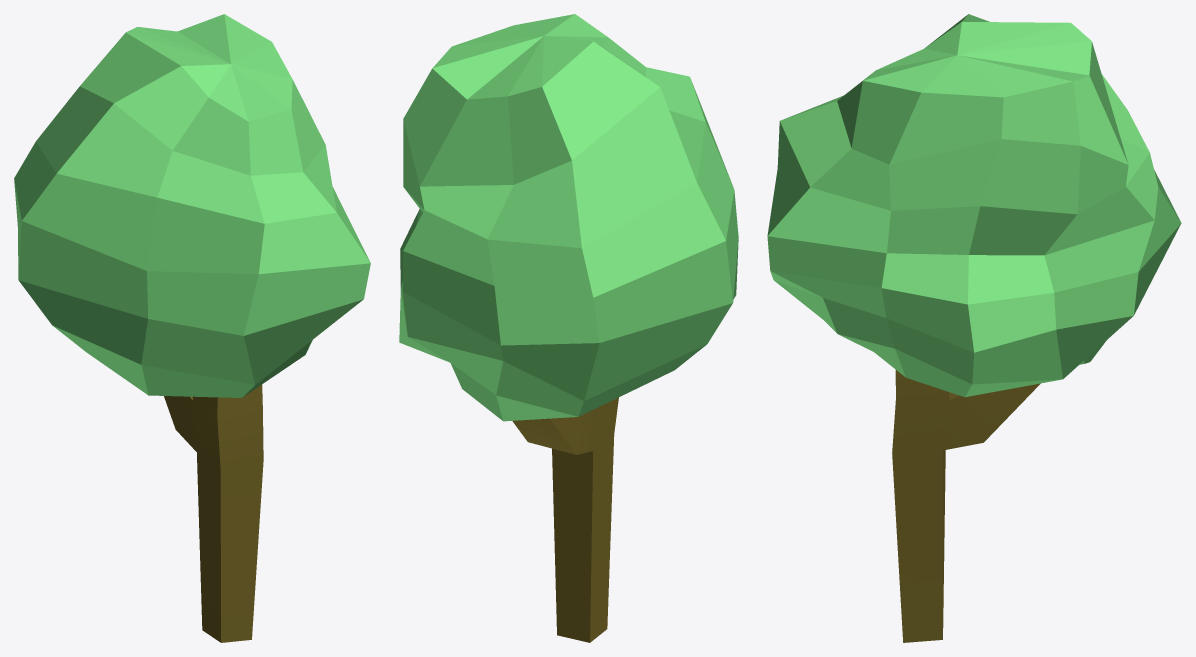
Rendered from Tree_1_Textured.fbx.
3 renders of one model, left to right at view 1: azimuth 30°, elevation 25°; view 2: azimuth 150°, elevation 25°; view 3: azimuth 270°, elevation 25°, orthographic. The views are drawn at different scales.
Parts seen in each view (by area): view 1: polySurface15, polySurface16; view 2: polySurface15, polySurface16; view 3: polySurface15, polySurface16.
Part boxes in pixels (x1,y1,x2,y2): polySurface15: (14,14,370,397); polySurface16: (164,384,263,642); polySurface15: (399,14,738,421); polySurface16: (512,397,618,642); polySurface15: (767,14,1181,397); polySurface16: (892,370,1040,642).
Size of the model in its own units: 8.02 by 13.63 by 8.54.
